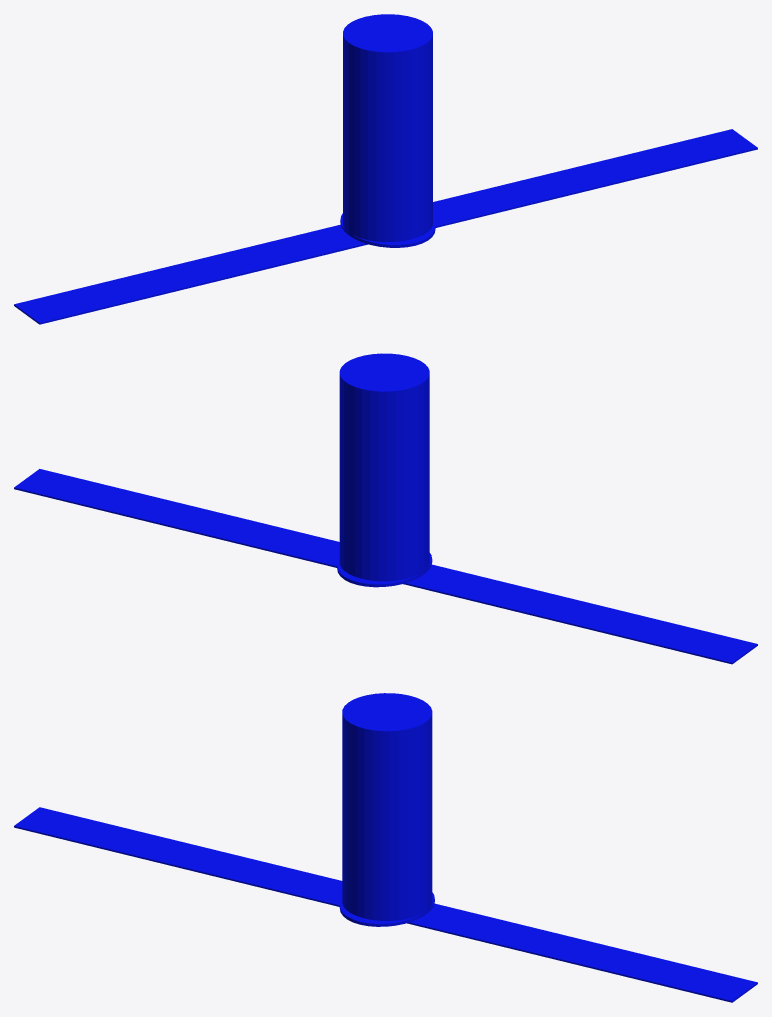
3 renders of one model, top to bottom at view 1: azimuth 30°, elevation 25°; view 2: azimuth 150°, elevation 25°; view 3: azimuth 330°, elevation 25°, orthographic.
Visible parts, largest first — view 1: tmp_export_Cylinder.013; view 2: tmp_export_Cylinder.013; view 3: tmp_export_Cylinder.013.
Part boxes in pixels (x1,y1,x2,y2): tmp_export_Cylinder.013: [14, 14, 757, 324]; tmp_export_Cylinder.013: [14, 353, 757, 664]; tmp_export_Cylinder.013: [14, 693, 757, 1002].
Size of the model in its own units: 18.36 by 2.4 by 4.74.
